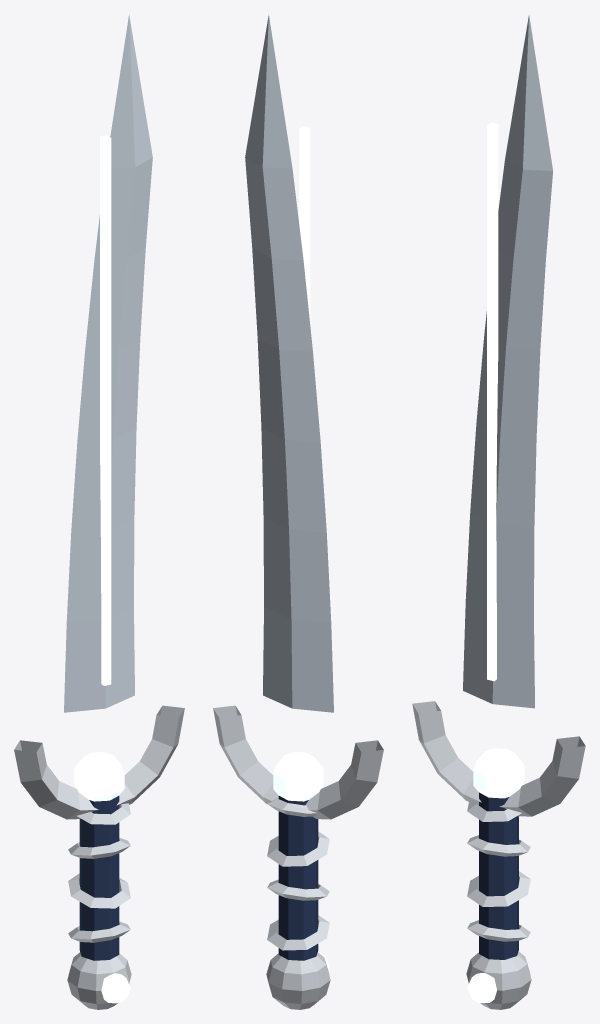
The model's file is gear_sword_moon_v01.glb.
3 renders of one model, left to right at view 1: azimuth 30°, elevation 25°; view 2: azimuth 150°, elevation 25°; view 3: azimuth 330°, elevation 25°, orthographic.
Visible parts, largest first — view 1: sword_moon; view 2: sword_moon; view 3: sword_moon.
Part boxes in pixels (x1,y1,x2,y2): sword_moon: (14,14,184,1009); sword_moon: (213,14,383,1009); sword_moon: (412,14,585,1009).
Bounding box in the file's own units: 0.144 × 0.794 × 0.058.
